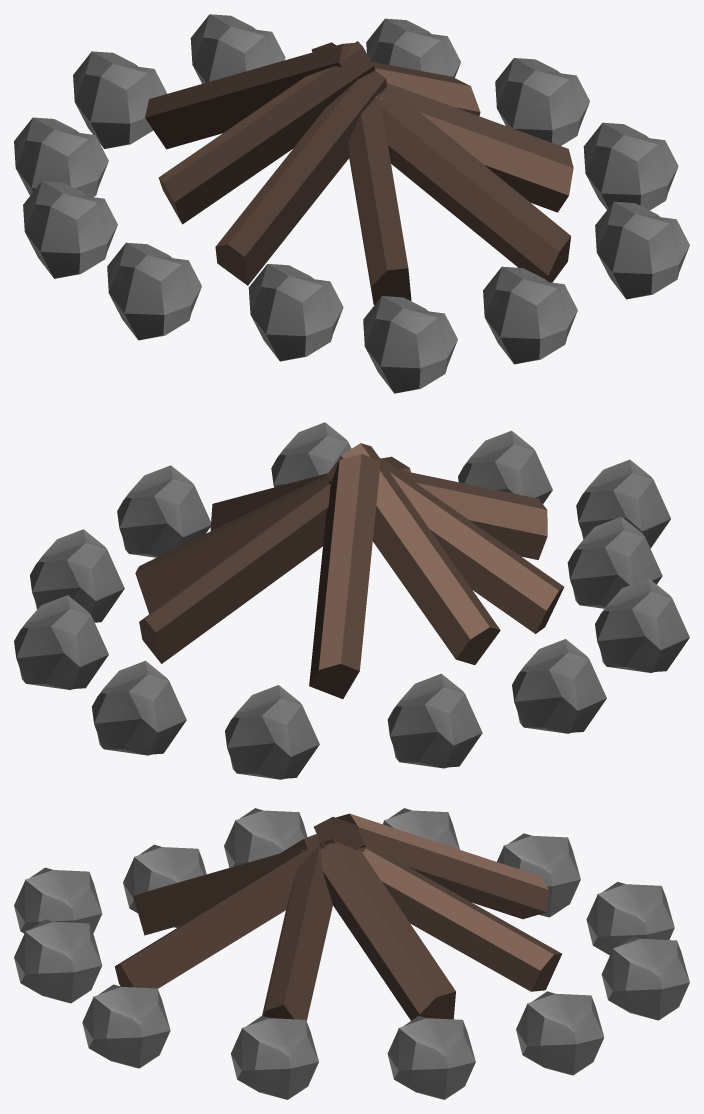
The model's file is fire.fbx.
3 views of the same model, one above another, from view 1: azimuth 30°, elevation 25°; view 2: azimuth 150°, elevation 25°; view 3: azimuth 270°, elevation 25° (orthographic). The views are drawn at different scales.
Visible parts, largest first — view 1: fire; view 2: fire; view 3: fire.
Boxes of the visible parts, x1,y1,x2,y2 form: fire: (14, 14, 689, 393); fire: (14, 422, 689, 779); fire: (14, 808, 689, 1099).
Size of the model in its own units: 1.15 by 0.3908 by 1.36.
